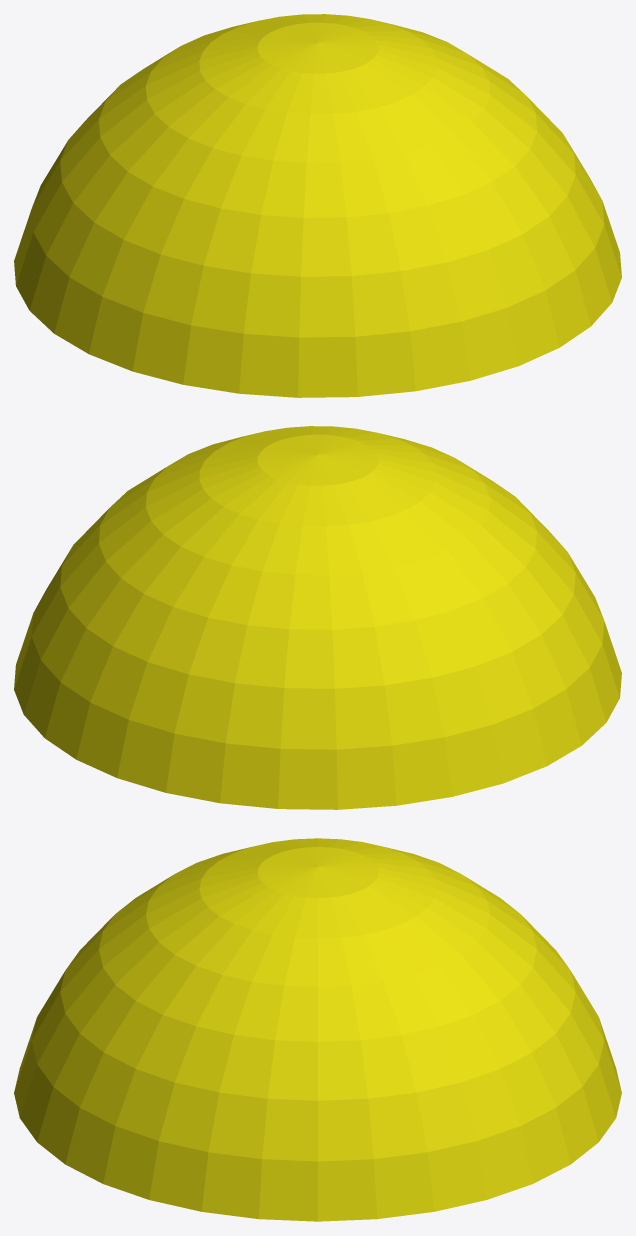
File: semiSphere 1.fbx
3 renders of one model, top to bottom at view 1: azimuth 30°, elevation 25°; view 2: azimuth 150°, elevation 25°; view 3: azimuth 270°, elevation 25°, orthographic.
Visible parts, largest first — view 1: Sphere; view 2: Sphere; view 3: Sphere.
Boxes of the visible parts, x1=… form: Sphere: x1=14, y1=14, x2=621, y2=397; Sphere: x1=14, y1=426, x2=621, y2=809; Sphere: x1=14, y1=838, x2=621, y2=1221.
Size of the model in its own units: 196 by 80.49 by 196.
